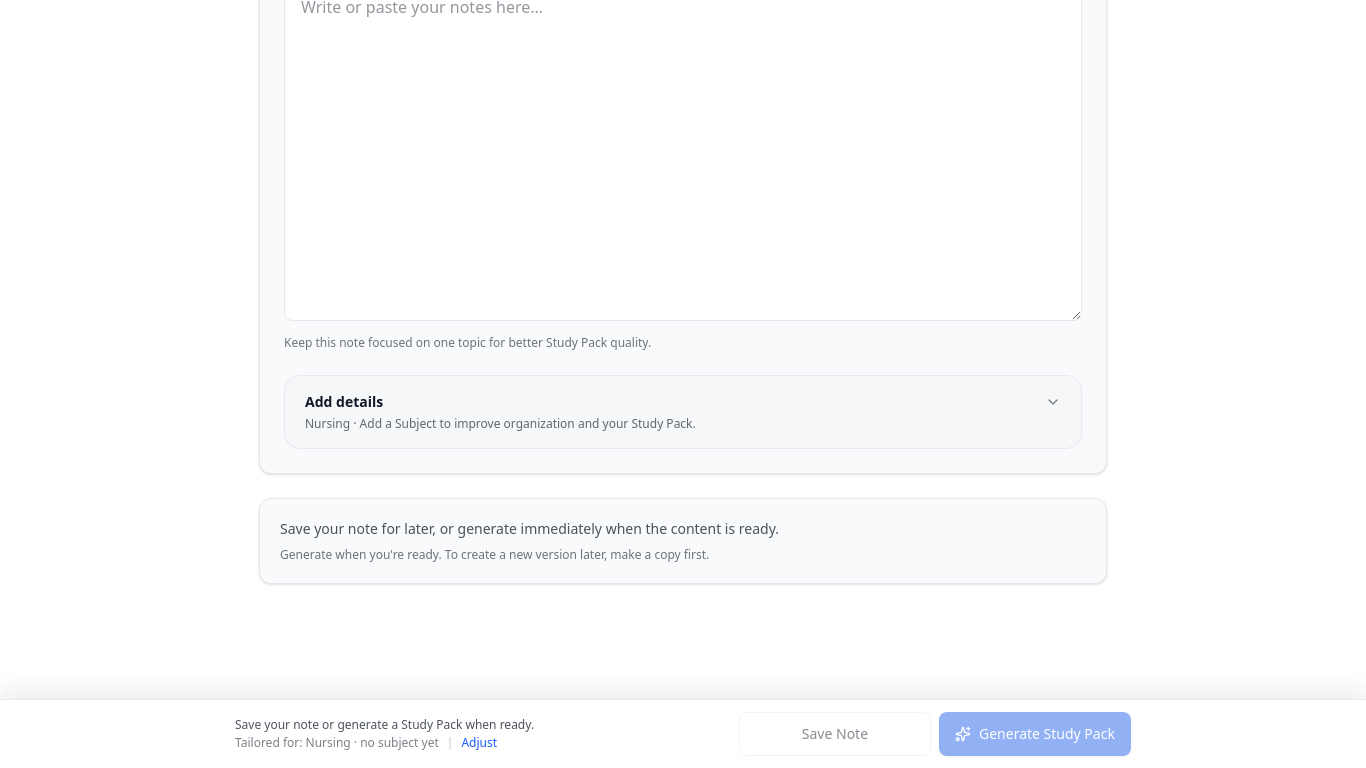
Test: NoteEditorPageClient › shows optional metadata fields when Add details is expanded
The image size is (1366, 768).
(page scrolled)
Click the button "Add details" at (683, 412), box left=285, top=376, right=1081, bottom=448
(page scrolled)
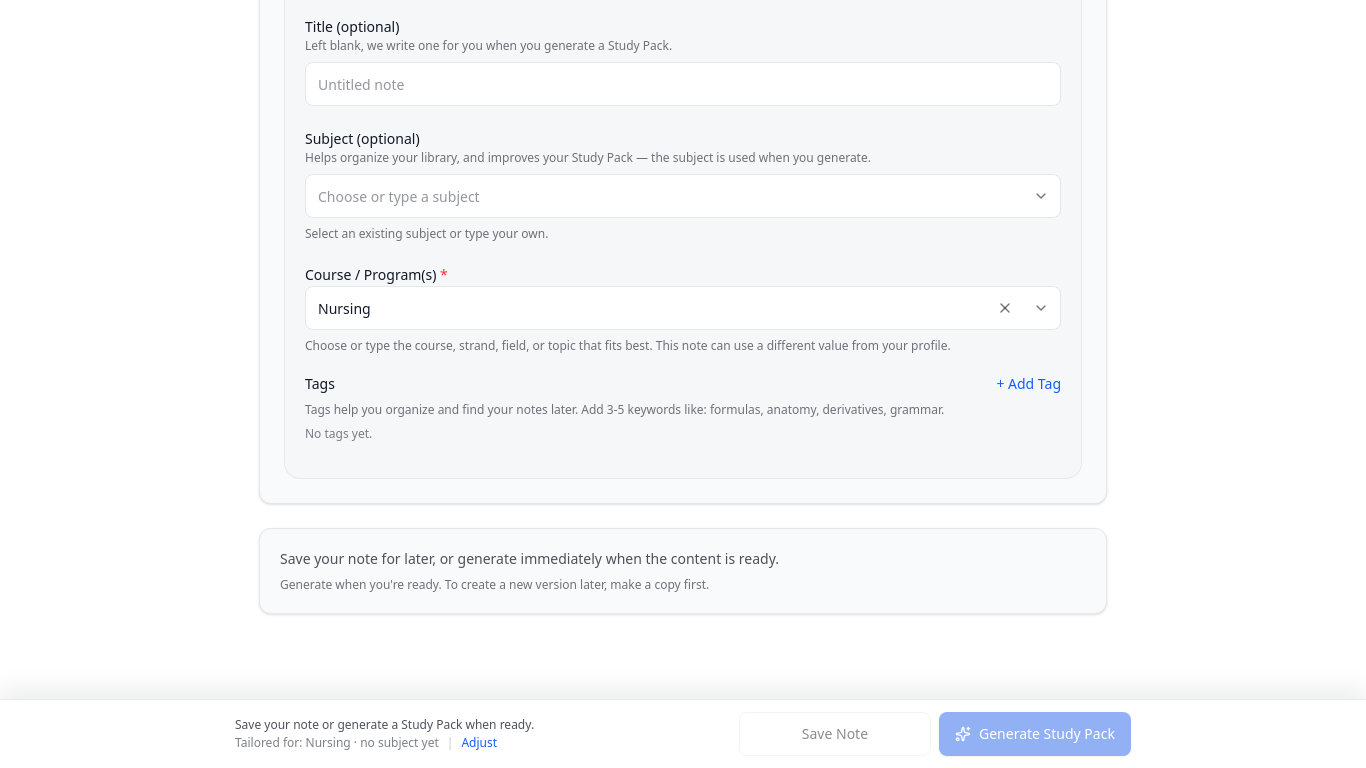
Result: the field labelled "Title (optional)" is shown at left=305, top=62, right=1061, bottom=106
Result: the field labelled "Subject (optional)" is shown at left=305, top=174, right=1061, bottom=218
Result: the field labelled "Course / Program(s) *" is shown at left=305, top=286, right=1061, bottom=330
